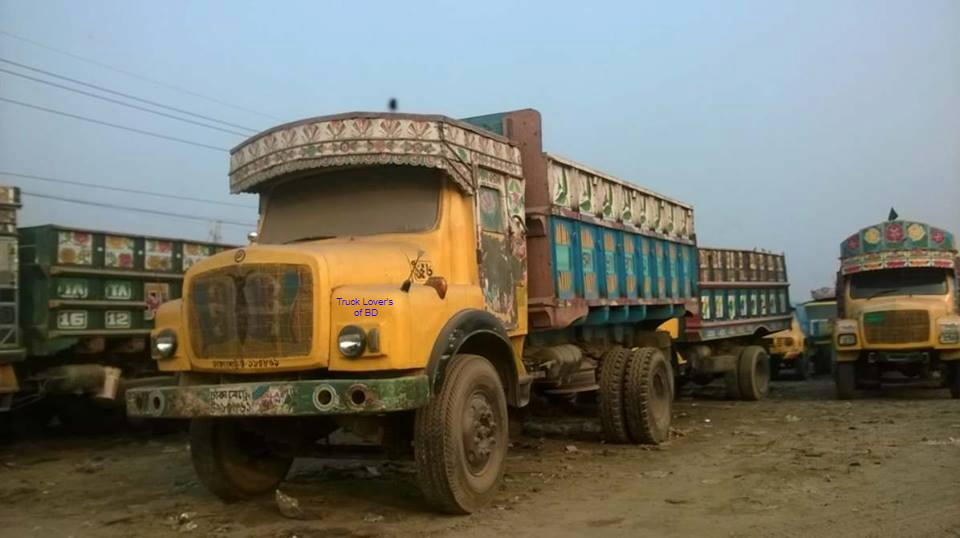truck: (170, 87, 689, 486), (1, 183, 244, 430), (811, 226, 958, 411), (684, 245, 809, 399)
